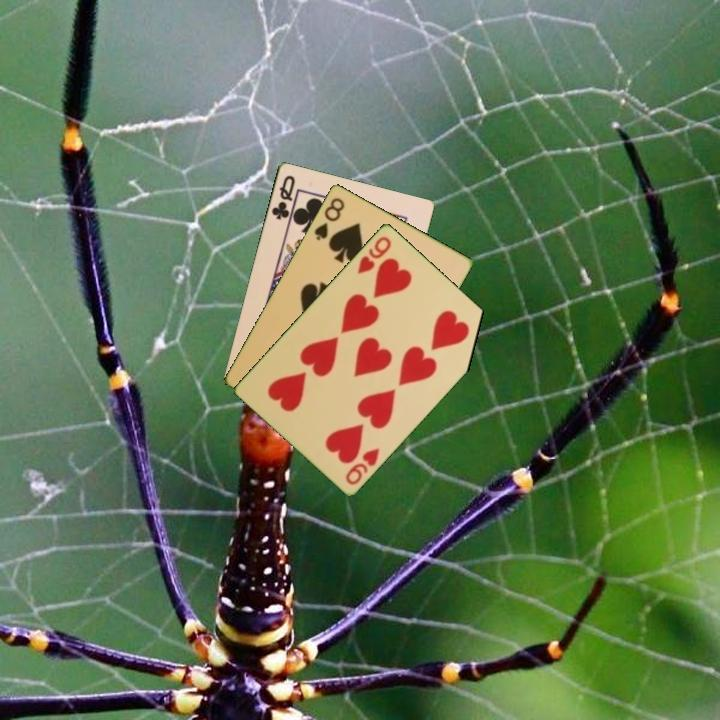8s: (310, 194, 347, 243)
9h: (342, 444, 383, 488), (354, 232, 394, 277)
Qc: (268, 171, 298, 222)
